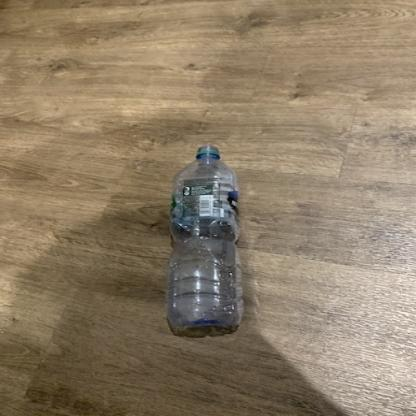trash: (161, 140, 245, 336)
